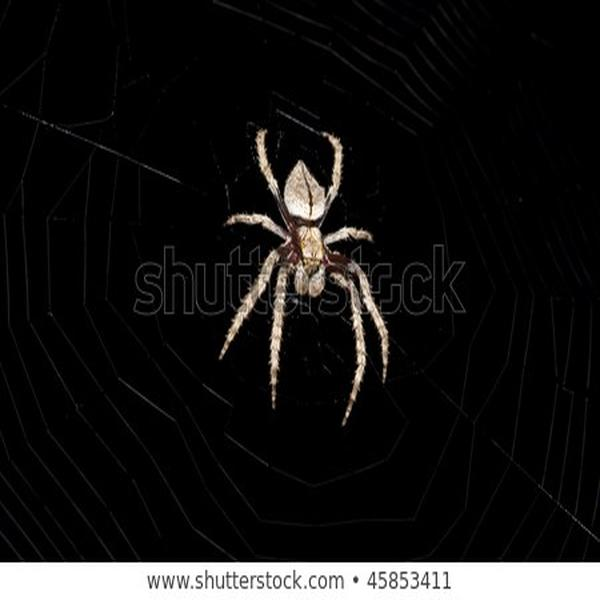Garden Orb Weaver Spider: (220, 129, 387, 415)
